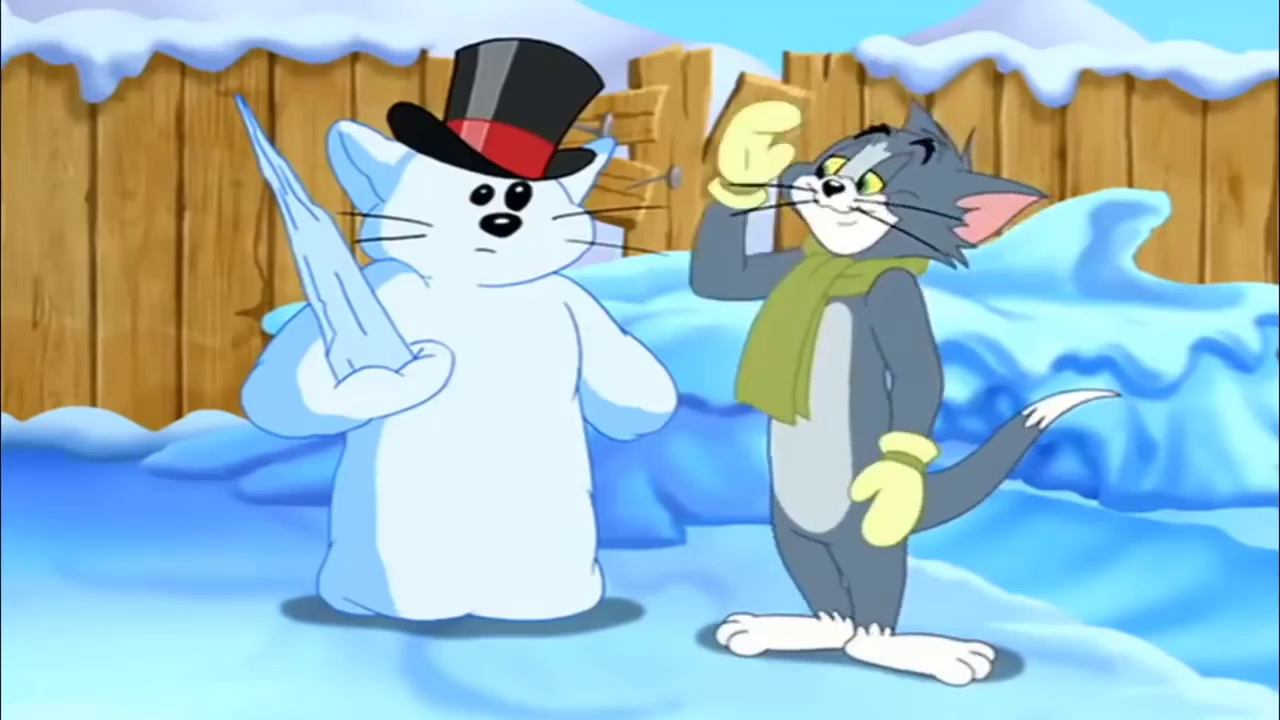face: (803, 122, 938, 254)
